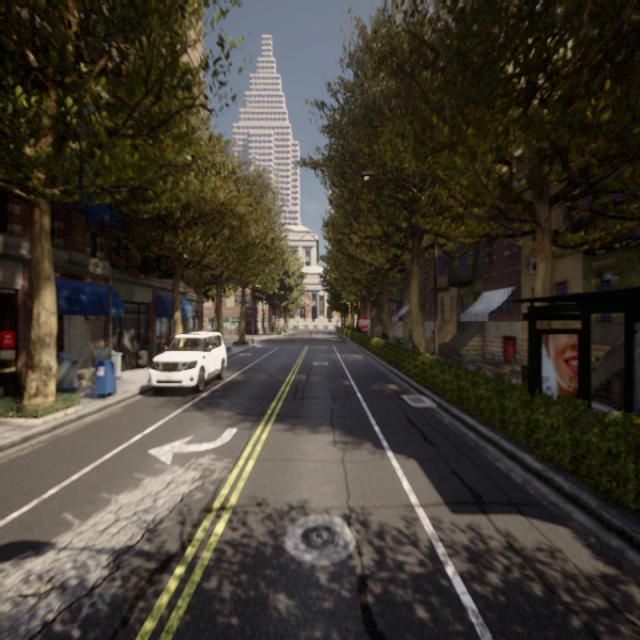stop sign: (356, 311, 371, 333)
